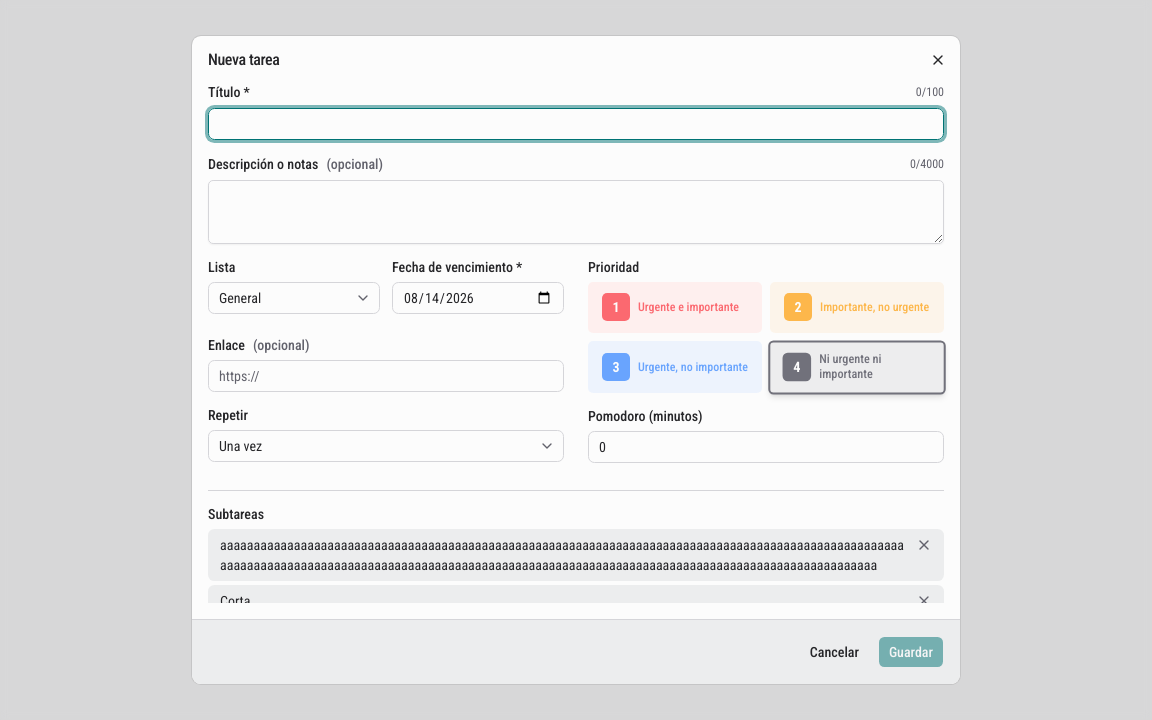
it: TaskFormDialog: pegar varias subtareas › trunca al tope la línea que se pasa de largo
In the field with test id "task-title-input": (576, 124) [208,108,944,140], type "Recados"
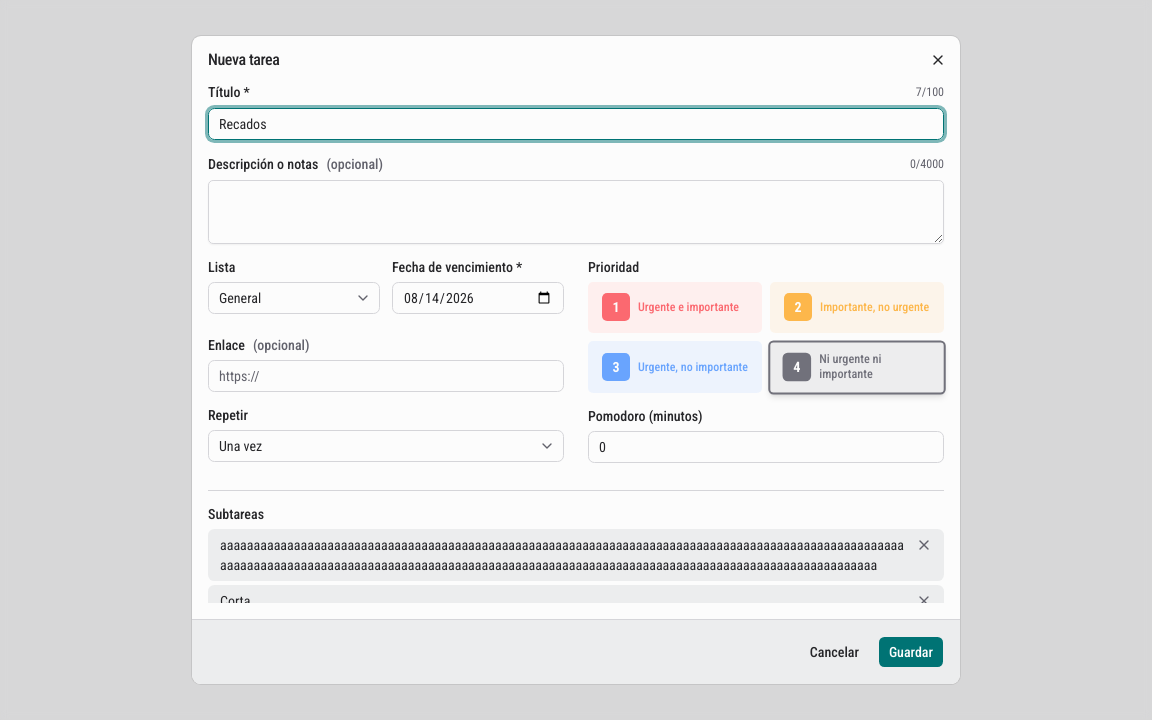
Expected: the button with test id "task-save" is enabled, [878,636,944,668]
